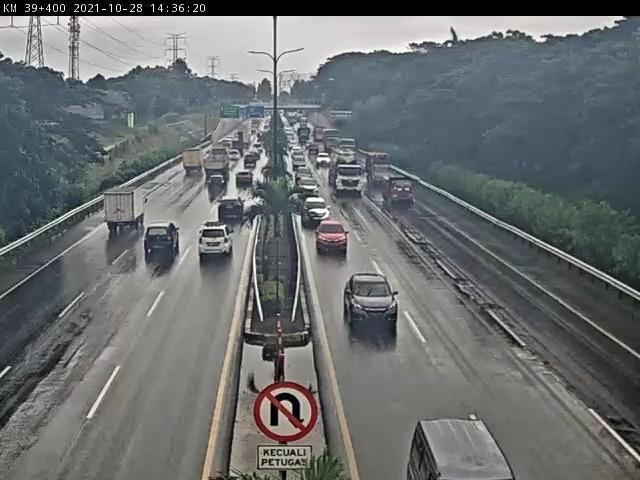car: (342, 271, 402, 329), (200, 223, 235, 260), (314, 219, 350, 253), (144, 223, 182, 255), (303, 197, 332, 226), (217, 198, 246, 224), (206, 174, 229, 194), (298, 177, 320, 197), (235, 170, 255, 189)
truck: (103, 188, 148, 232), (330, 148, 365, 196), (381, 171, 415, 208), (200, 149, 230, 179), (181, 148, 207, 175)
